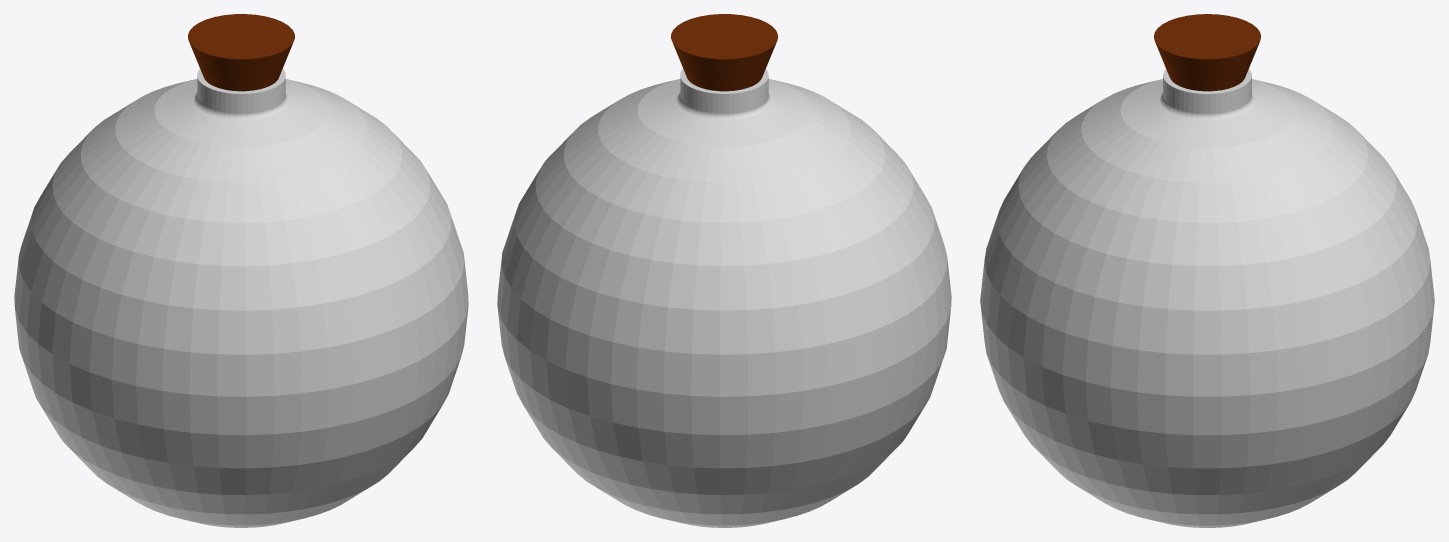
The model's file is Potion_03.fbx.
3 renders of one model, left to right at view 1: azimuth 30°, elevation 25°; view 2: azimuth 150°, elevation 25°; view 3: azimuth 270°, elevation 25°, orthographic.
Parts seen in each view (by area): view 1: Fiole, Bouchon; view 2: Fiole, Bouchon; view 3: Fiole, Bouchon.
Part boxes in pixels (box(x1,y1,x2,y2)): Fiole: box(14, 69, 468, 527); Bouchon: box(188, 14, 294, 91); Fiole: box(497, 69, 951, 527); Bouchon: box(671, 14, 777, 91); Fiole: box(980, 69, 1434, 527); Bouchon: box(1153, 14, 1261, 91).
Size of the model in its own units: 200 by 221 by 200.
